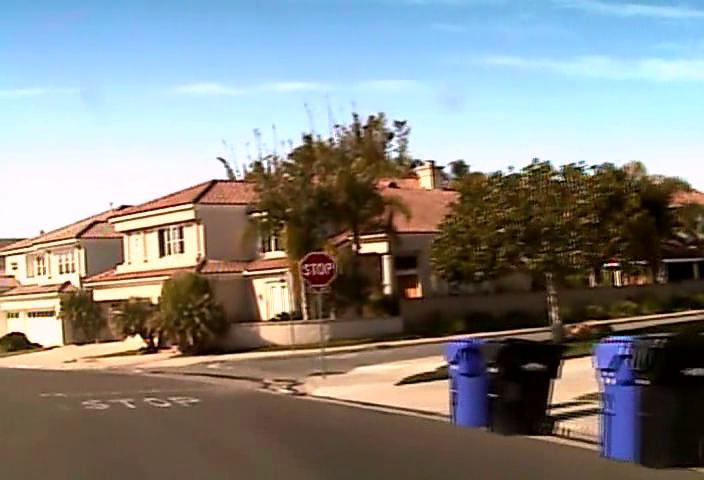stop: (299, 251, 337, 287)
